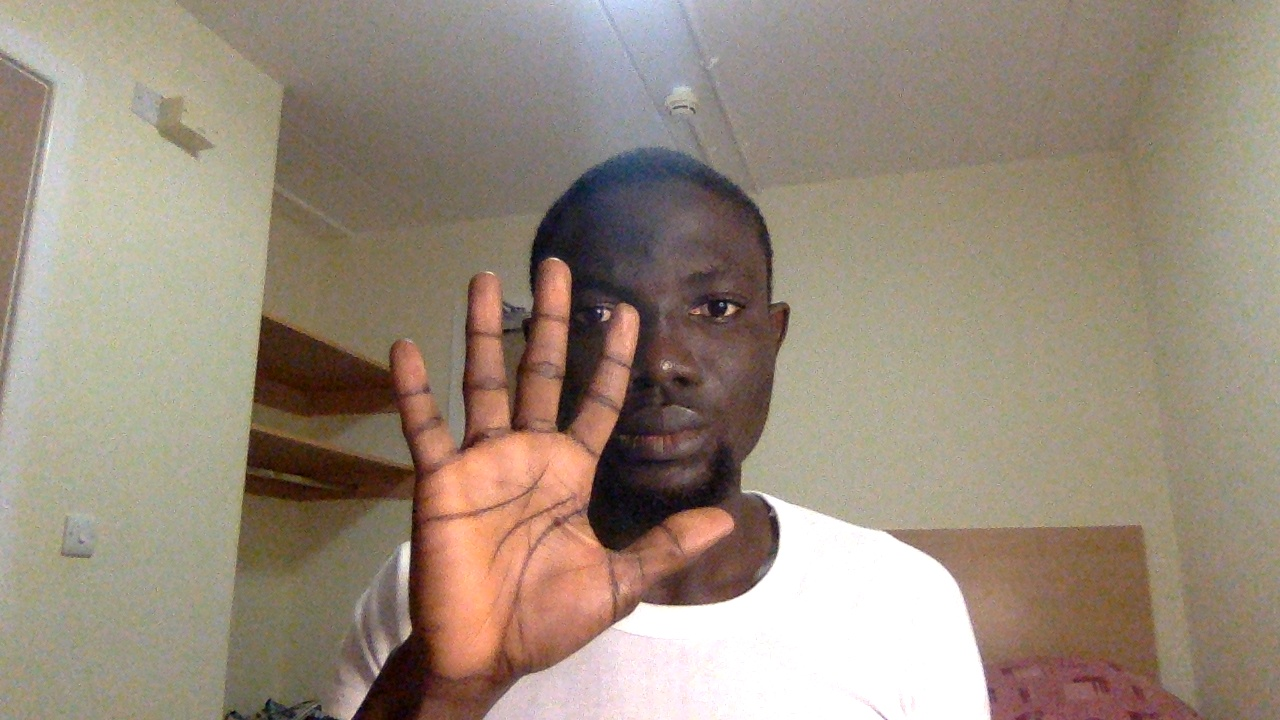Hello: (332, 236, 750, 701)
